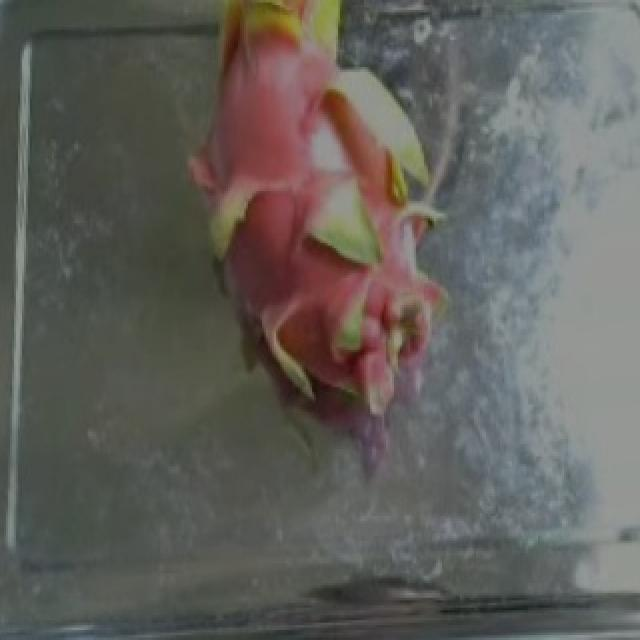fruit: (164, 5, 514, 449)
